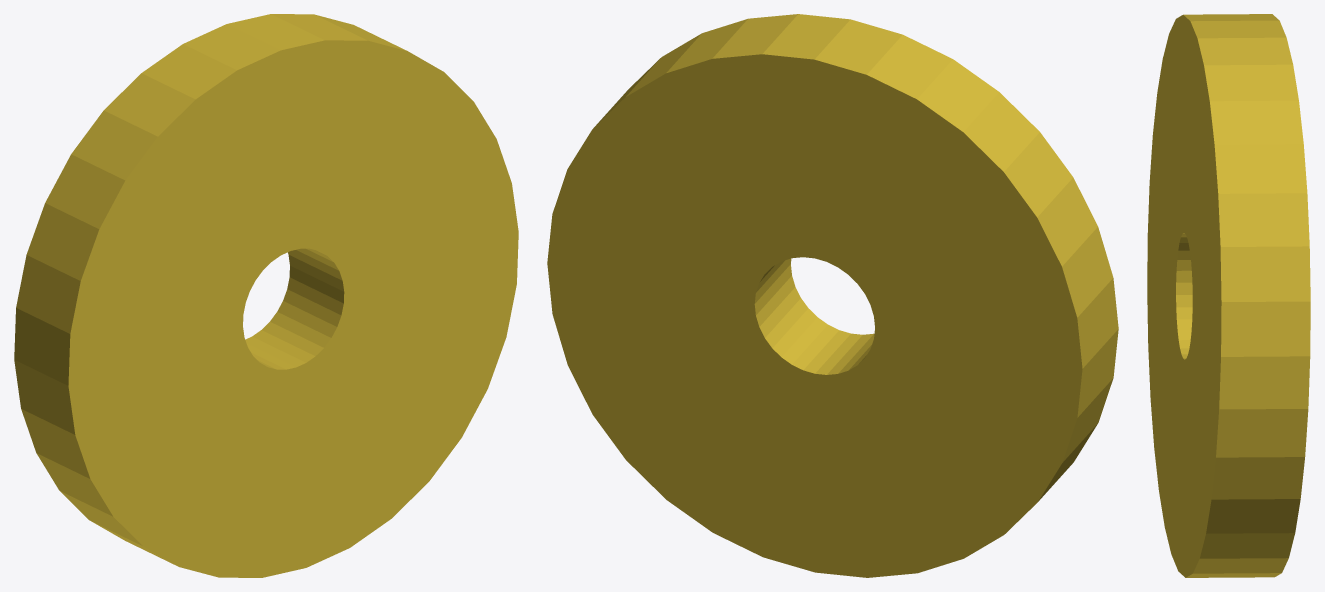
Rendered from CollectableTemp.fbx.
The picture shows the model from 3 angles, left to right: view 1: azimuth 30°, elevation 25°; view 2: azimuth 150°, elevation 25°; view 3: azimuth 270°, elevation 25°; orthographic projection. The views are drawn at different scales.
Parts seen in each view (by area): view 1: Circle; view 2: Circle; view 3: Circle.
Boxes of the visible parts, x1,y1,x2,y2 form: Circle: (14,14,518,577); Circle: (547,14,1118,577); Circle: (1147,14,1310,577).
Size of the model in its own units: 202 by 201 by 58.03.
